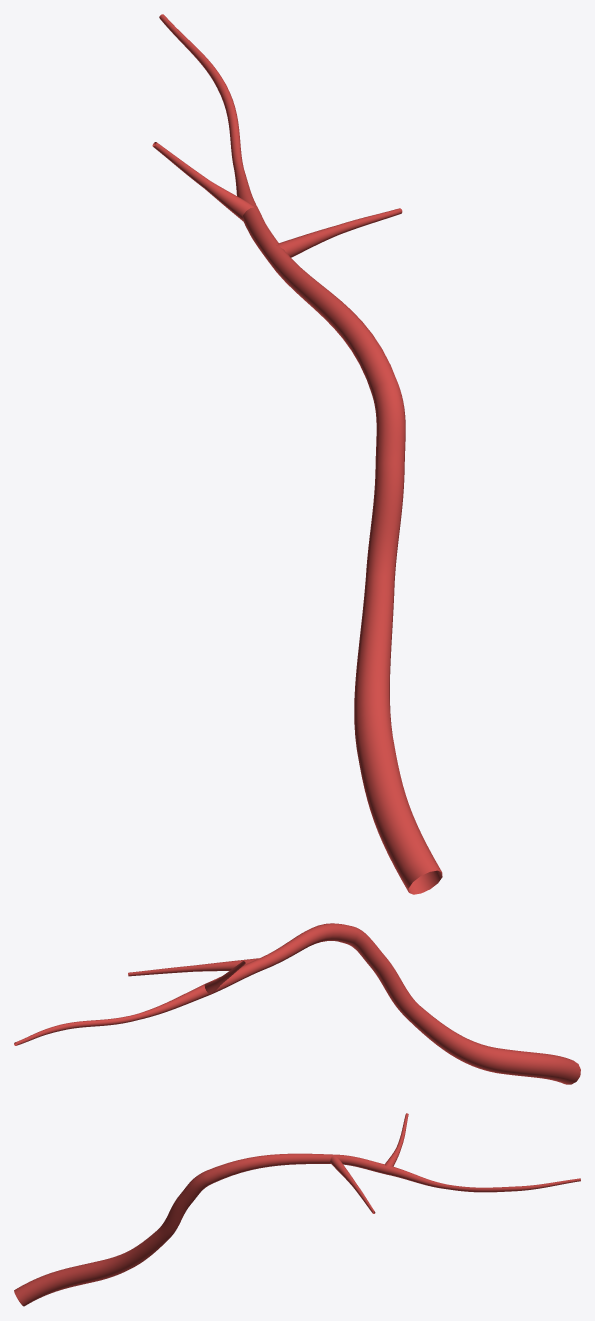
The picture shows the model from 3 angles, top to bottom: view 1: azimuth 30°, elevation 25°; view 2: azimuth 150°, elevation 25°; view 3: azimuth 270°, elevation 25°; orthographic projection. The views are drawn at different scales.
Parts seen in each view (by area): view 1: 左侧臀下动脉; view 2: 左侧臀下动脉; view 3: 左侧臀下动脉.
Boxes of the visible parts, box(x1,y1,x2,y2) form: 左侧臀下动脉: box(152, 14, 442, 894); 左侧臀下动脉: box(14, 923, 580, 1084); 左侧臀下动脉: box(14, 1113, 580, 1306).
Bounding box in the file's own units: 0.0604 × 0.0735 × 0.1708.
